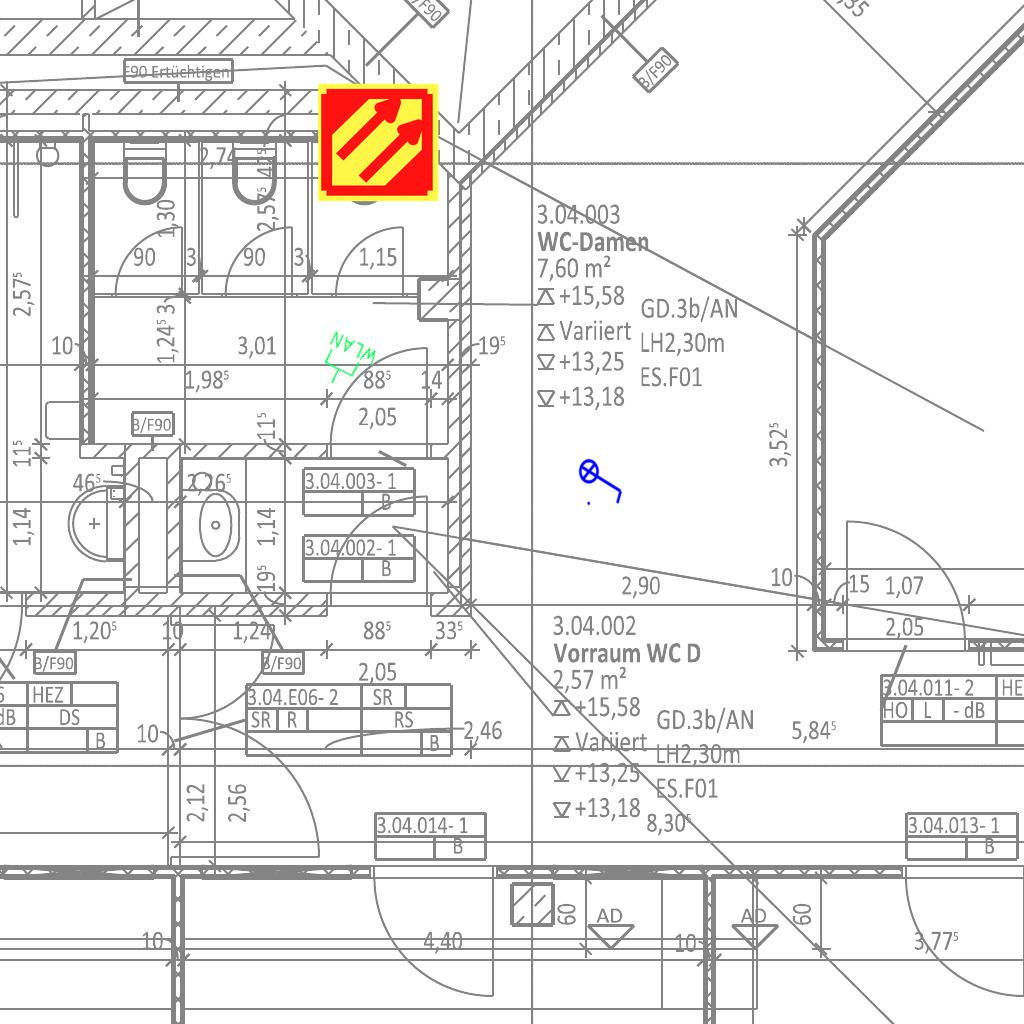ASR_Ansaugrauchmelder: (316, 80, 441, 205)
Ausschalter_beleuchtet: (578, 452, 626, 508)
WLAN: (312, 328, 382, 398)
